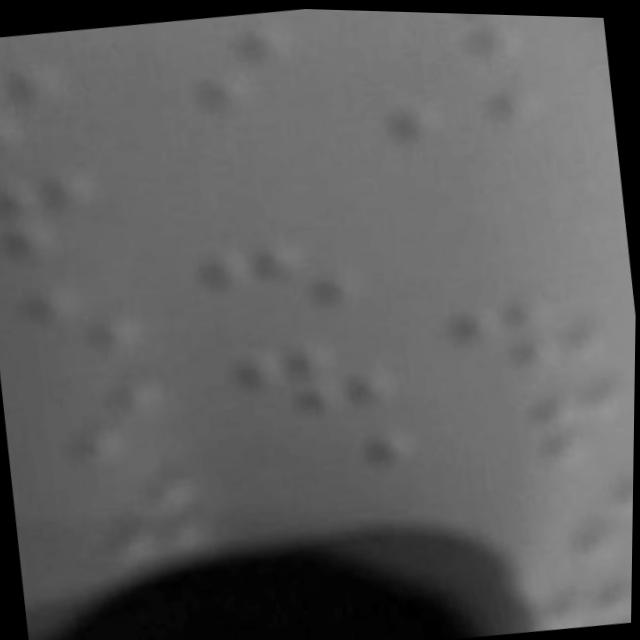braiile: (0, 366, 185, 480), (459, 374, 636, 491), (46, 466, 234, 573), (132, 17, 306, 126), (442, 283, 620, 389), (382, 80, 547, 194), (251, 415, 430, 520), (193, 224, 368, 326), (0, 261, 156, 372), (228, 328, 396, 431), (0, 164, 113, 274), (367, 9, 524, 79), (0, 52, 89, 155)
